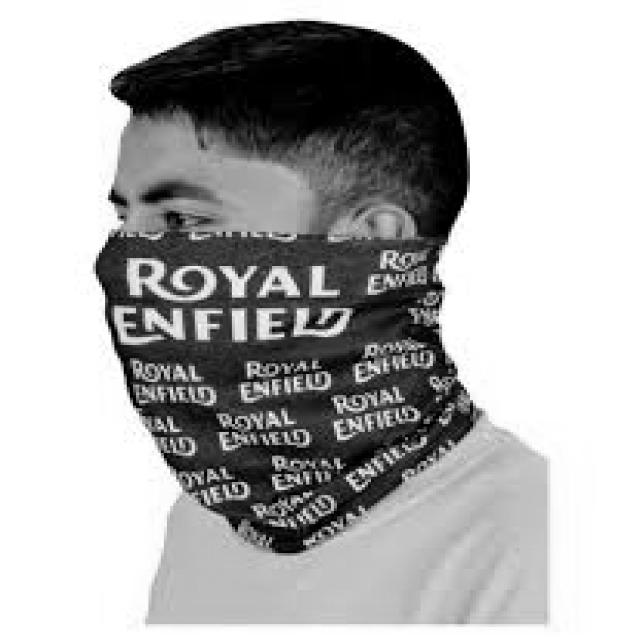without_mask: (90, 227, 476, 553)
